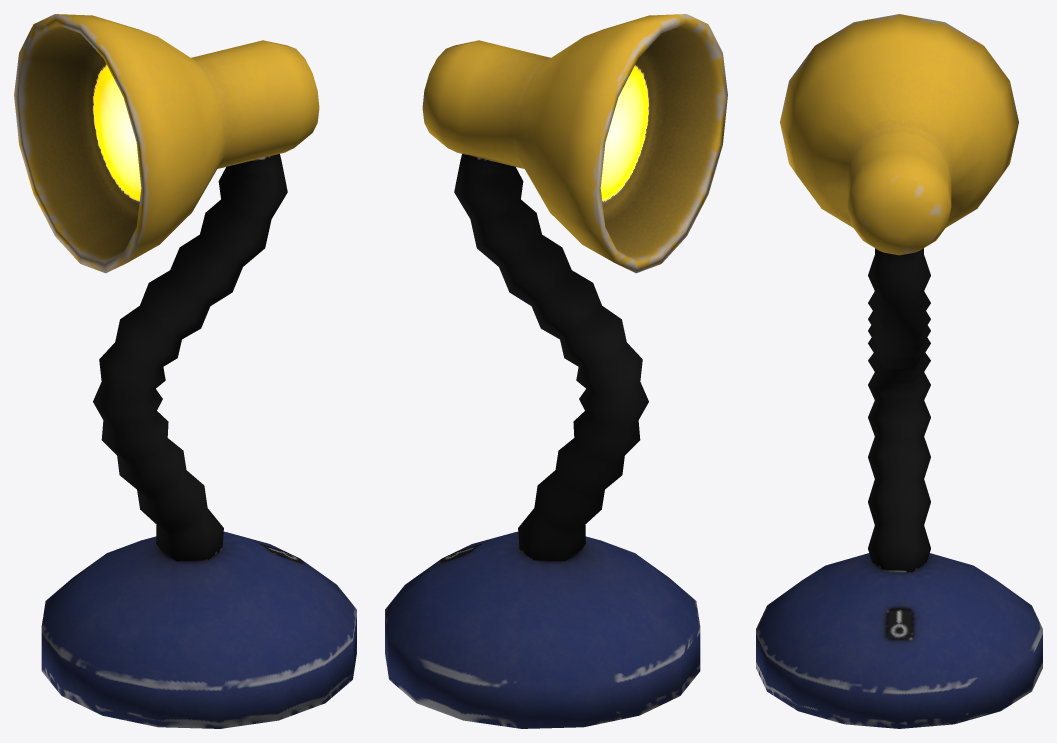
The model's file is lampicka.fbx.
3 renders of one model, left to right at view 1: azimuth 30°, elevation 25°; view 2: azimuth 150°, elevation 25°; view 3: azimuth 270°, elevation 25°, orthographic. The views are drawn at different scales.
Visible parts, largest first — view 1: Cylinder; view 2: Cylinder; view 3: Cylinder.
Boxes of the visible parts, box(x1,y1,x2,y2) form: Cylinder: box(14, 14, 356, 728); Cylinder: box(385, 14, 727, 728); Cylinder: box(756, 14, 1042, 728).
Size of the model in its own units: 98.94 by 229 by 98.94.
